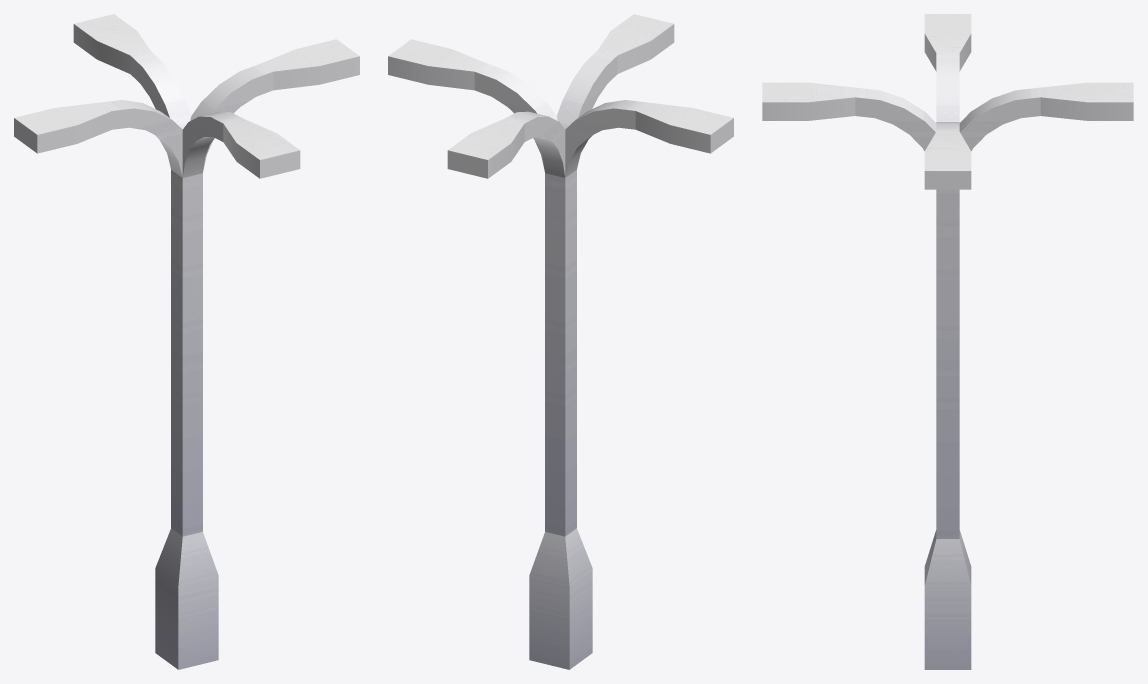
The model's file is light-curved-cross.glb.
The picture shows the model from 3 angles, left to right: view 1: azimuth 30°, elevation 25°; view 2: azimuth 150°, elevation 25°; view 3: azimuth 270°, elevation 25°; orthographic projection.
Parts seen in each view (by area): view 1: light-curved-cross; view 2: light-curved-cross; view 3: light-curved-cross.
Boxes of the visible parts, bbox=[...] form: light-curved-cross: bbox=[14, 14, 359, 669]; light-curved-cross: bbox=[388, 14, 733, 669]; light-curved-cross: bbox=[762, 14, 1133, 669].
Size of the model in its own units: 0.4 by 0.675 by 0.4.
Materials: 1 (1 with a texture image).
